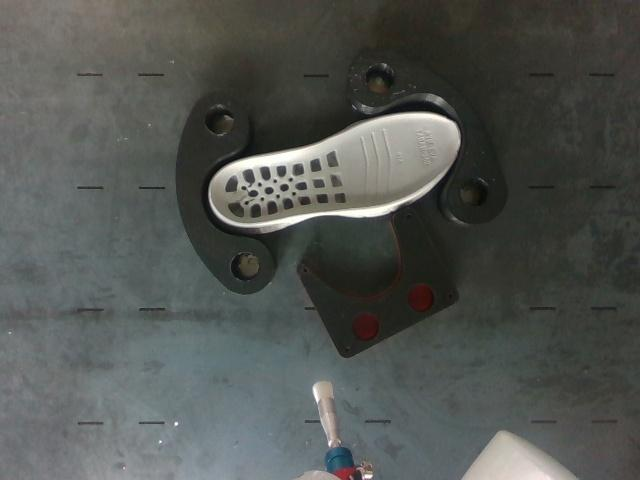shoes: (210, 114, 459, 224)
